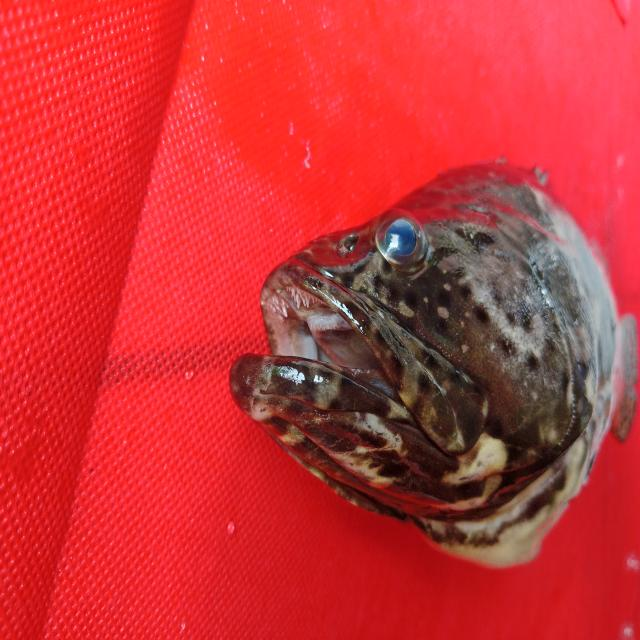ikan: (209, 126, 629, 591)
